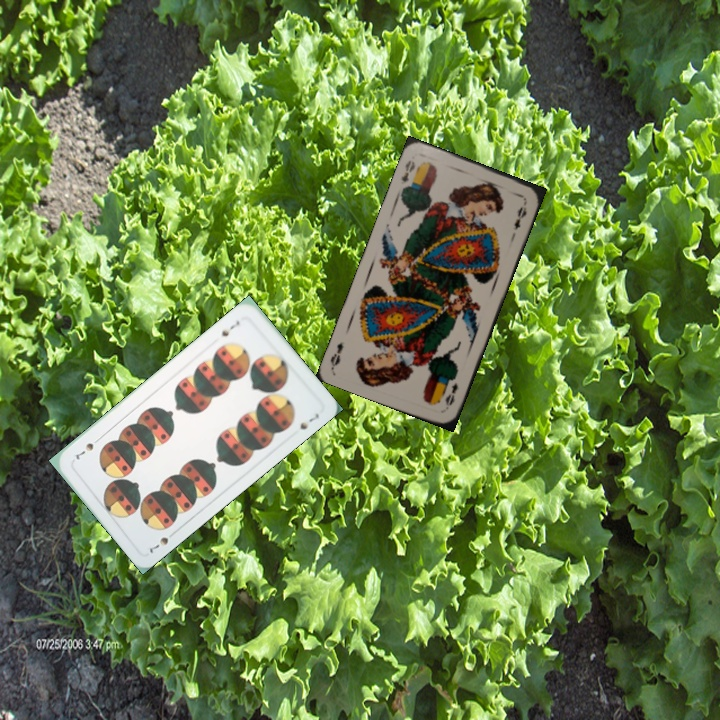EO: (397, 156, 418, 187), (441, 379, 461, 408)
S7: (145, 527, 179, 556), (217, 316, 242, 339)
